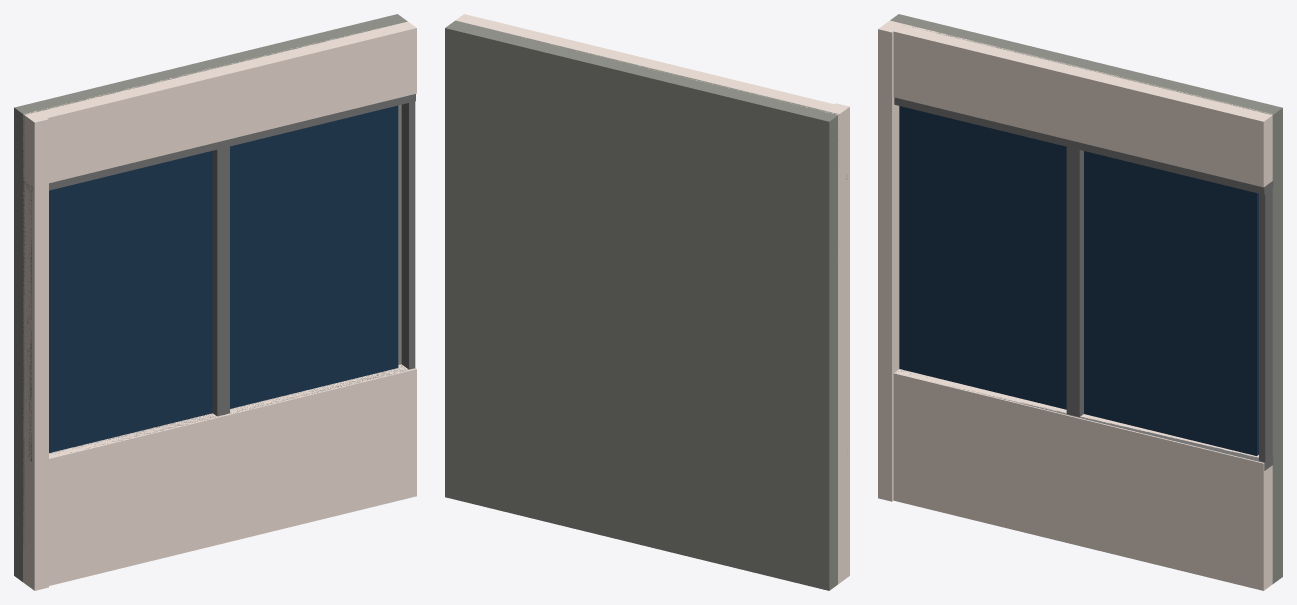
The model's file is mid-w1.fbx.
The picture shows the model from 3 angles, left to right: view 1: azimuth 30°, elevation 25°; view 2: azimuth 150°, elevation 25°; view 3: azimuth 330°, elevation 25°; orthographic projection.
Parts seen in each view (by area): view 1: a2002_mid-w1; view 2: a2002_mid-w1; view 3: a2002_mid-w1.
Part boxes in pixels (x1,y1,x2,y2): a2002_mid-w1: (14,14,416,590); a2002_mid-w1: (445,14,849,590); a2002_mid-w1: (878,14,1282,590).
Bounding box in the file's own units: 3 × 3.5 × 0.28.
